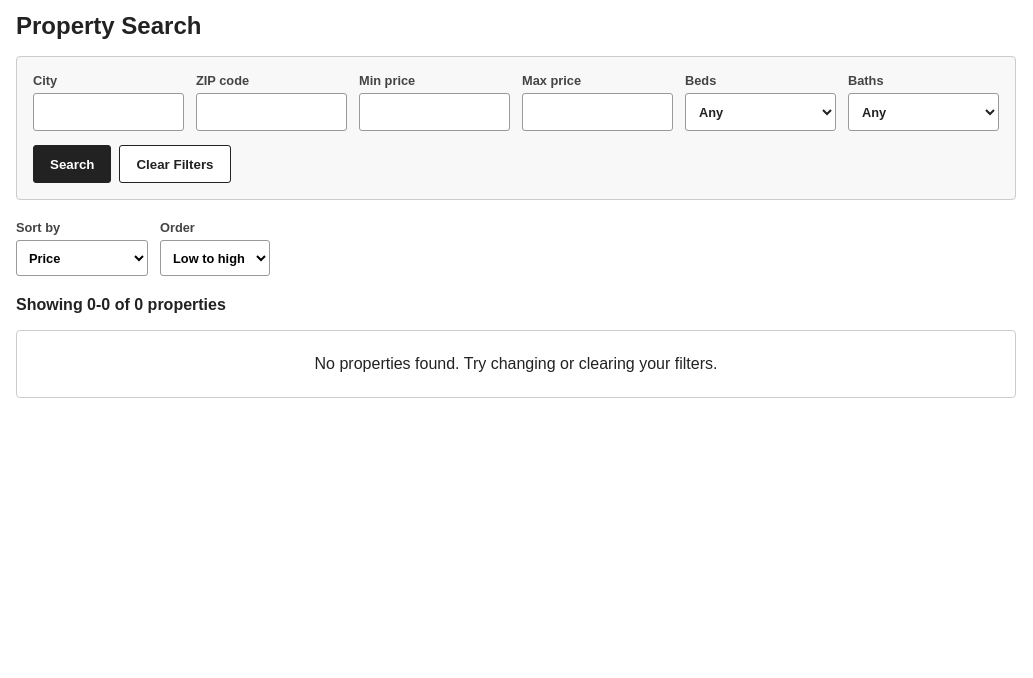
Test: a newer search ignores results from an older request
This screenshot has width=1033, height=678.
Expected: the text "No properties found. Try changing or clearing your filters." is shown, [16,330,1016,398]
Type "Austin" into the field labelled "City" at (108, 112), box [33,93,184,131]
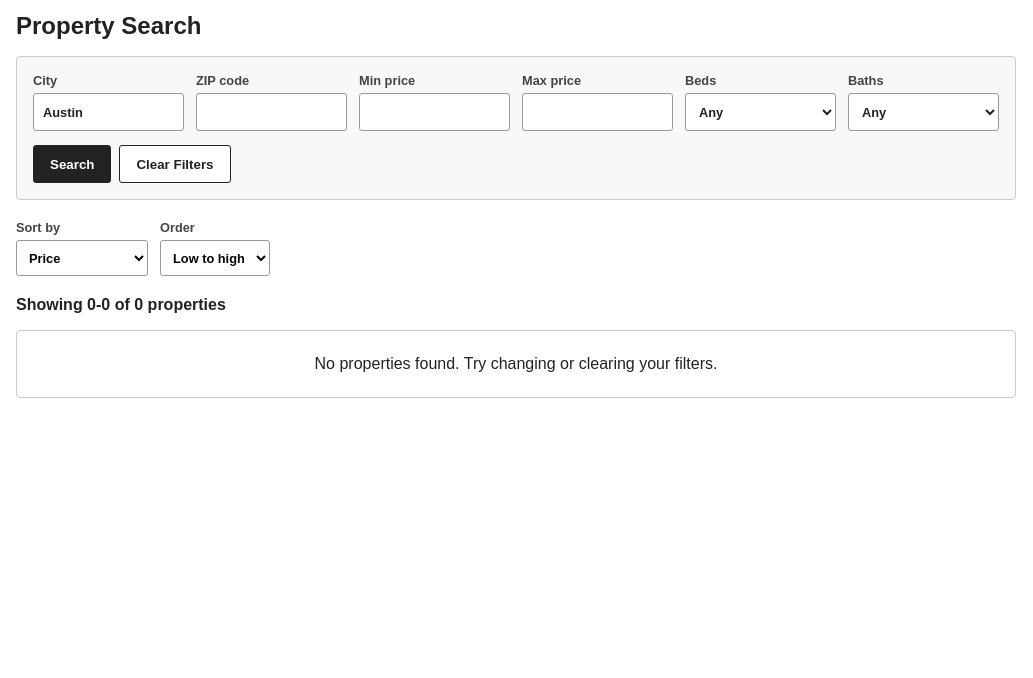
Click the button "Search" at (72, 164), box [33,145,112,183]
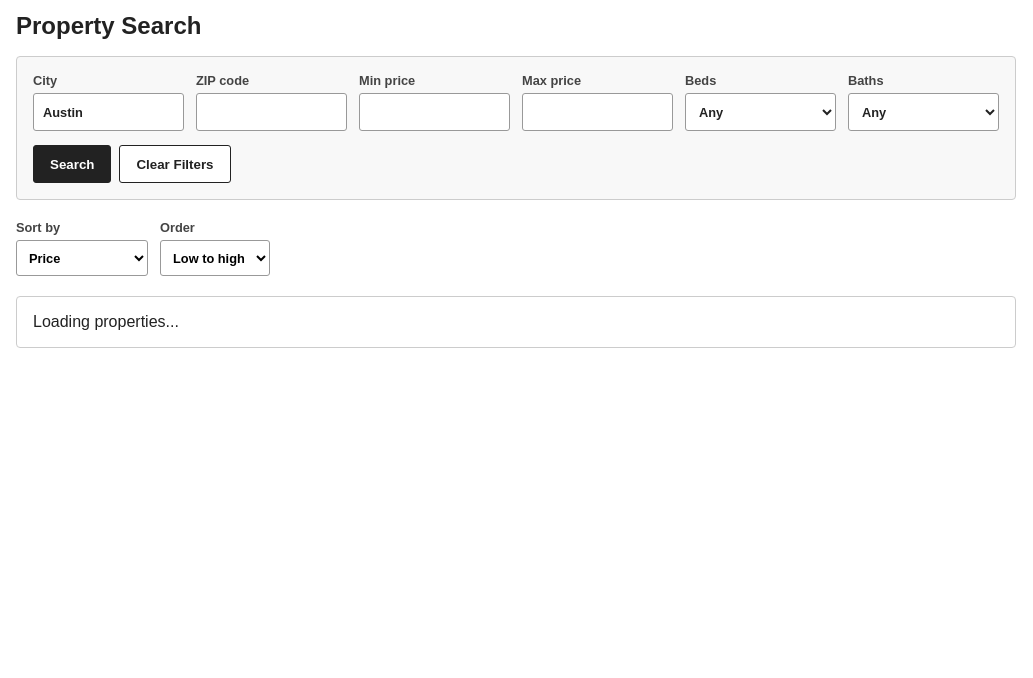
Click the button "Clear Filters" at (175, 164), box [120,145,230,183]
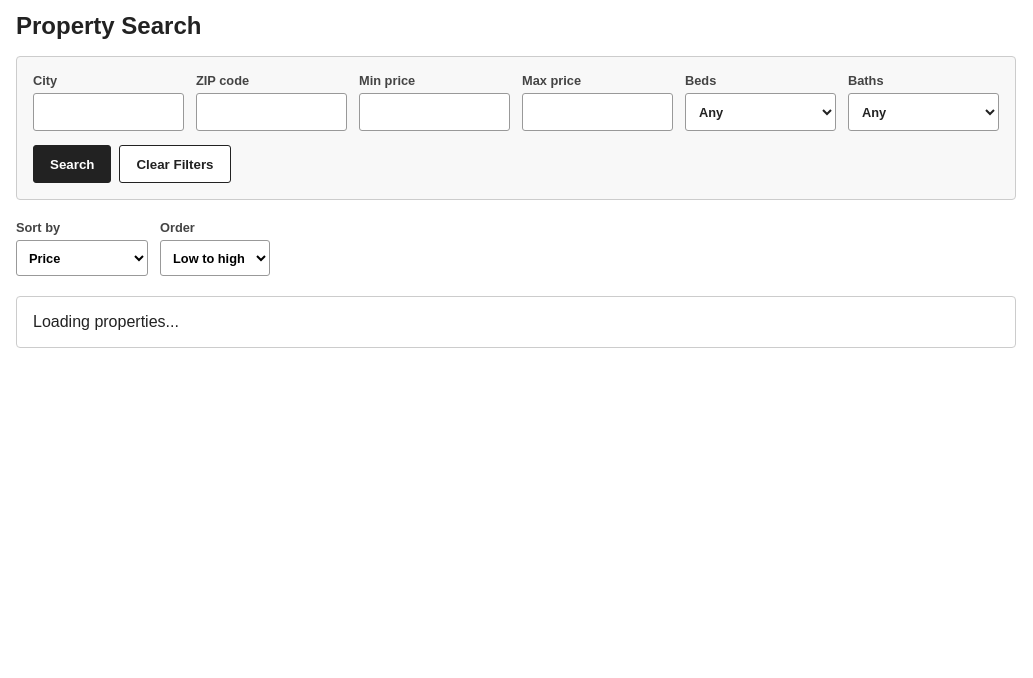
Type "Dallas" into the field labelled "City" at (108, 112), box [33,93,184,131]
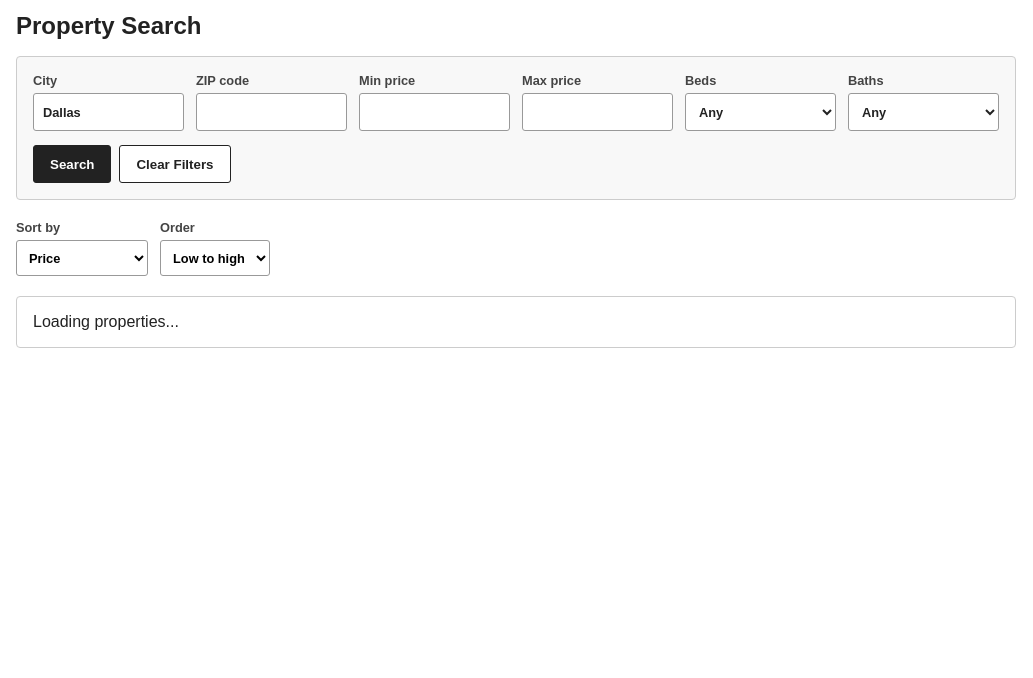
Click the button "Search" at (72, 164), box [33,145,112,183]
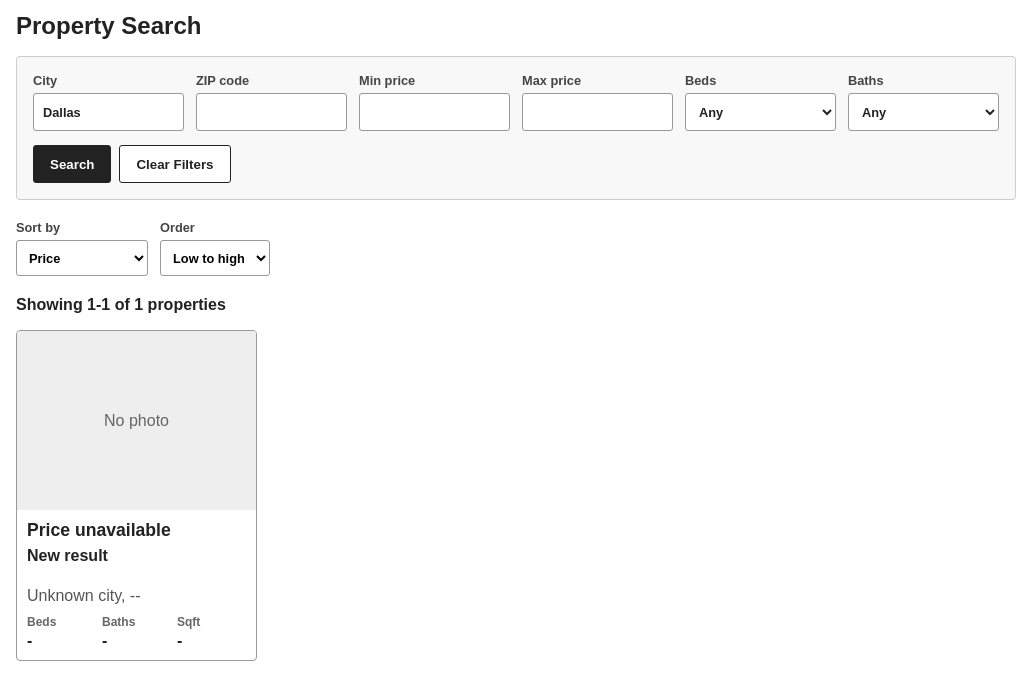
Result: the text "New result" is shown at [27,547,108,564]
